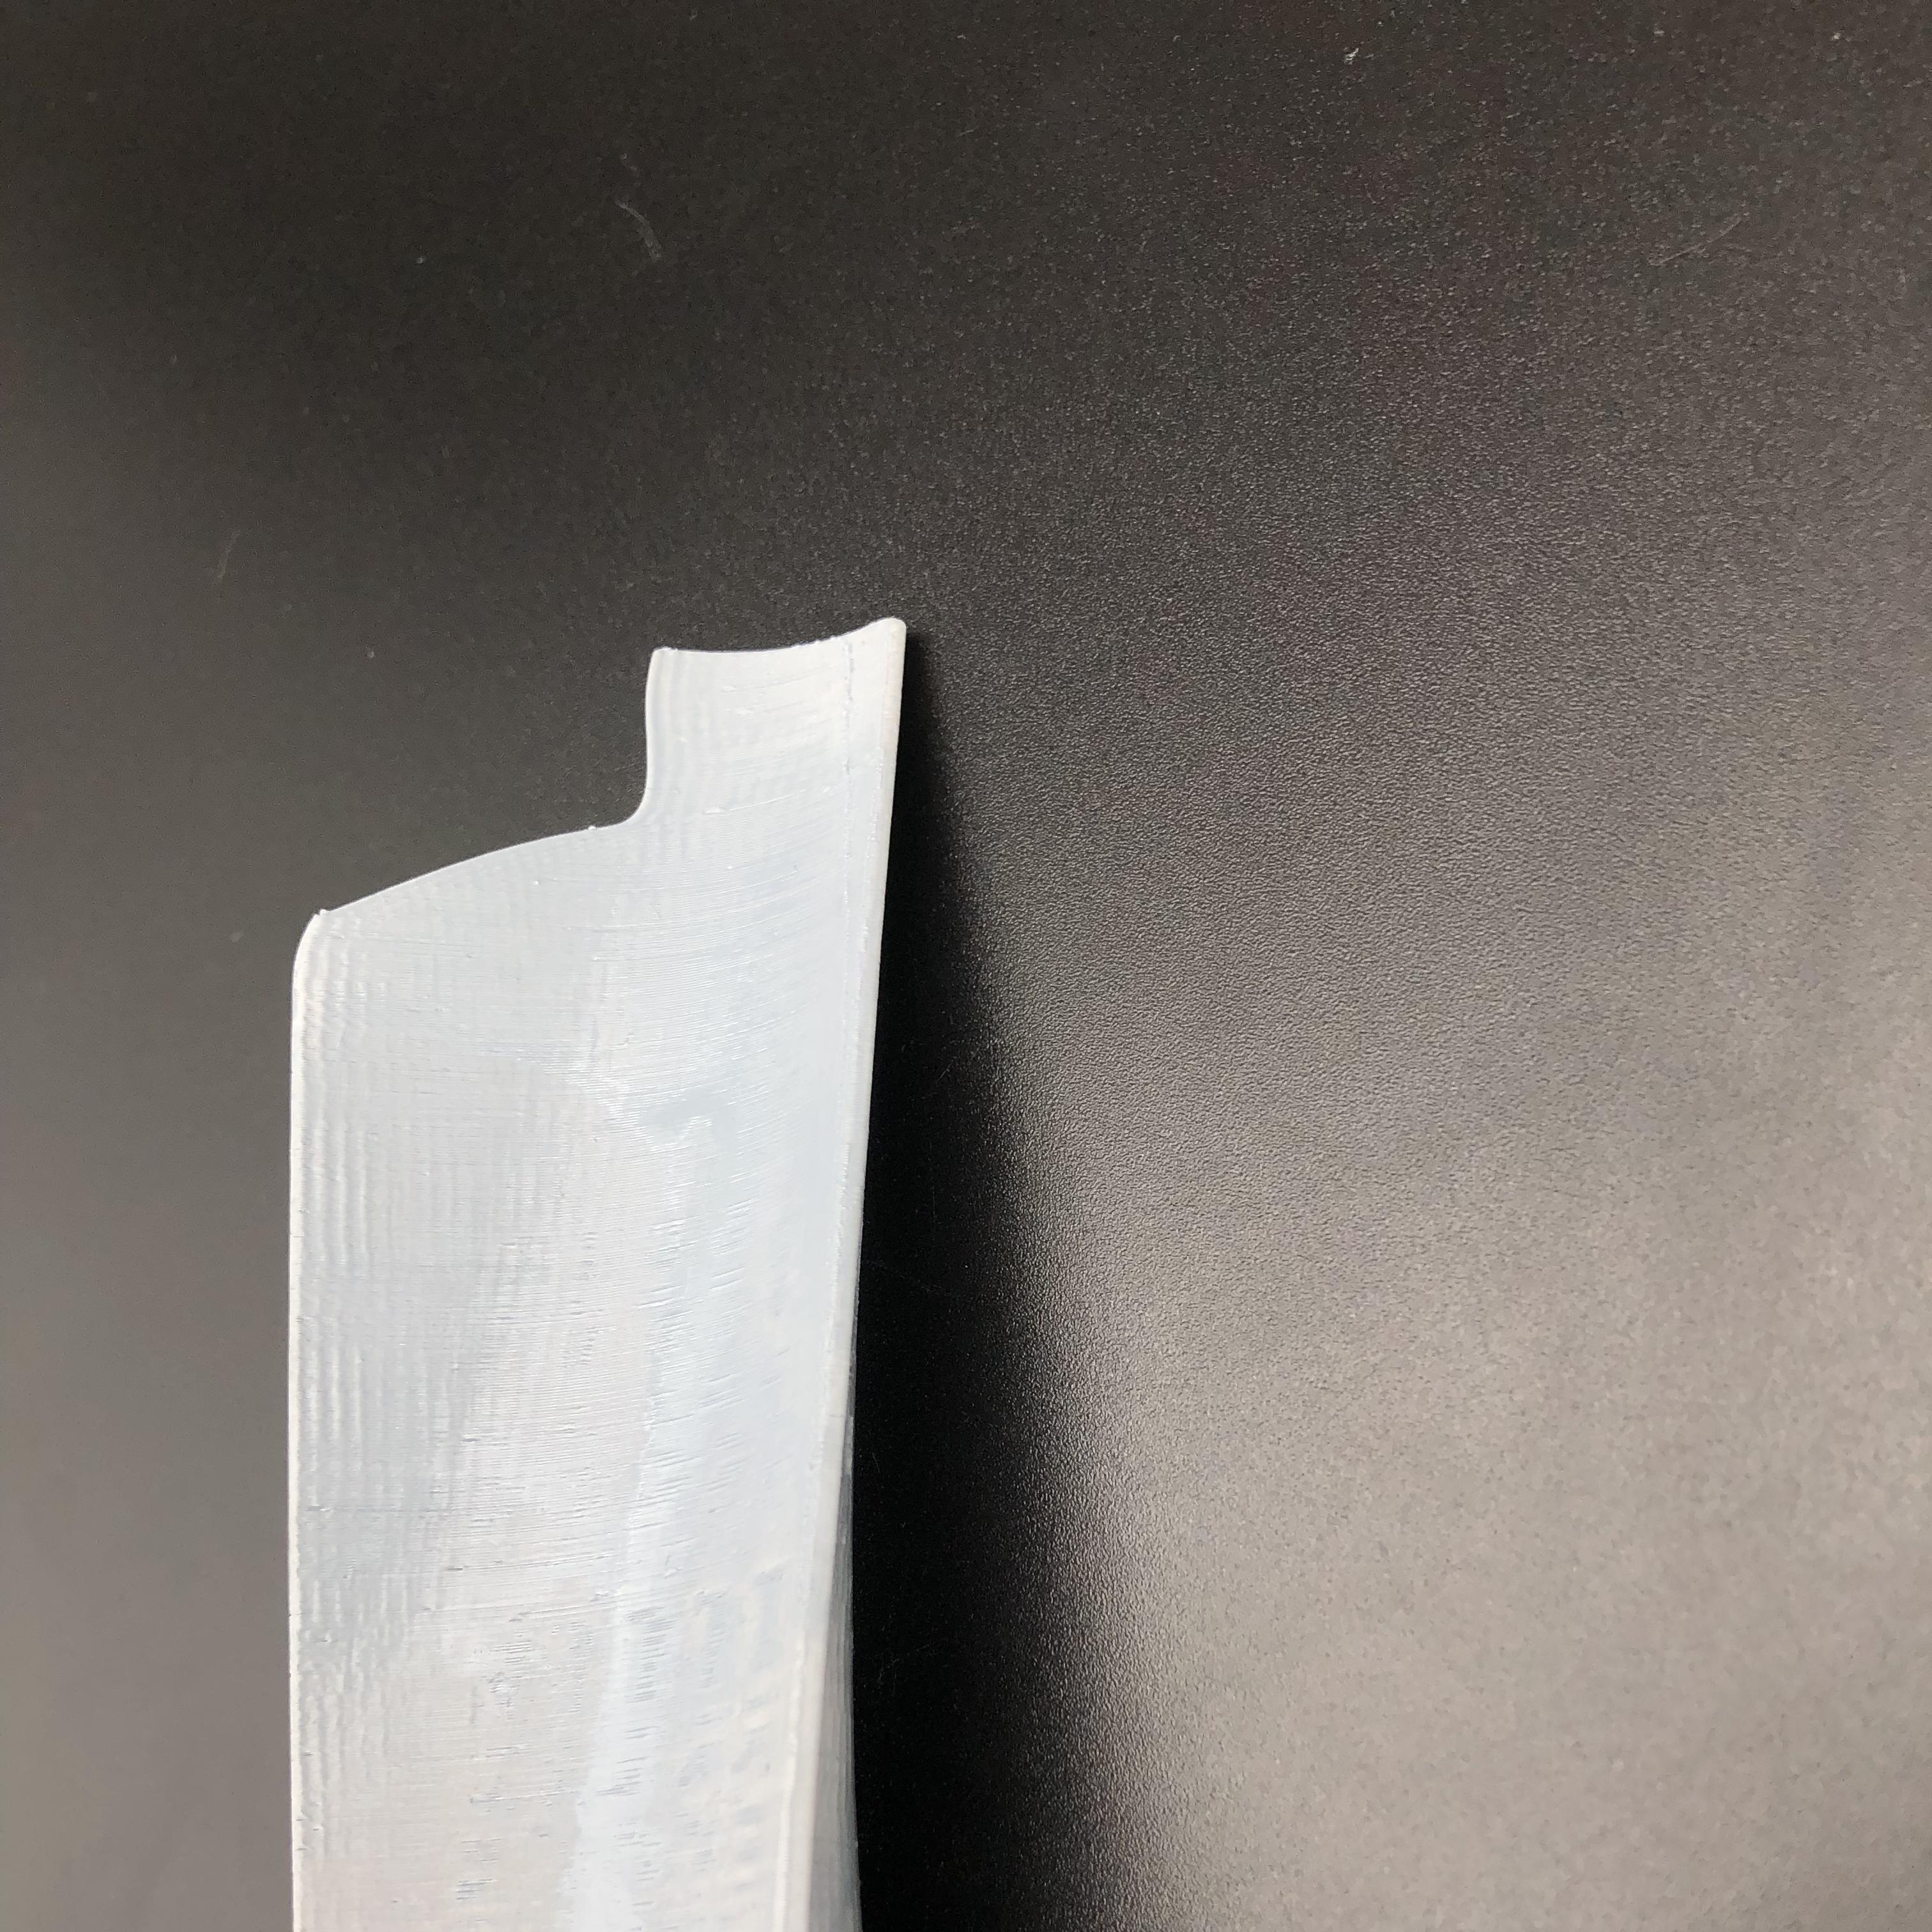fracture: (287, 674, 722, 936)
